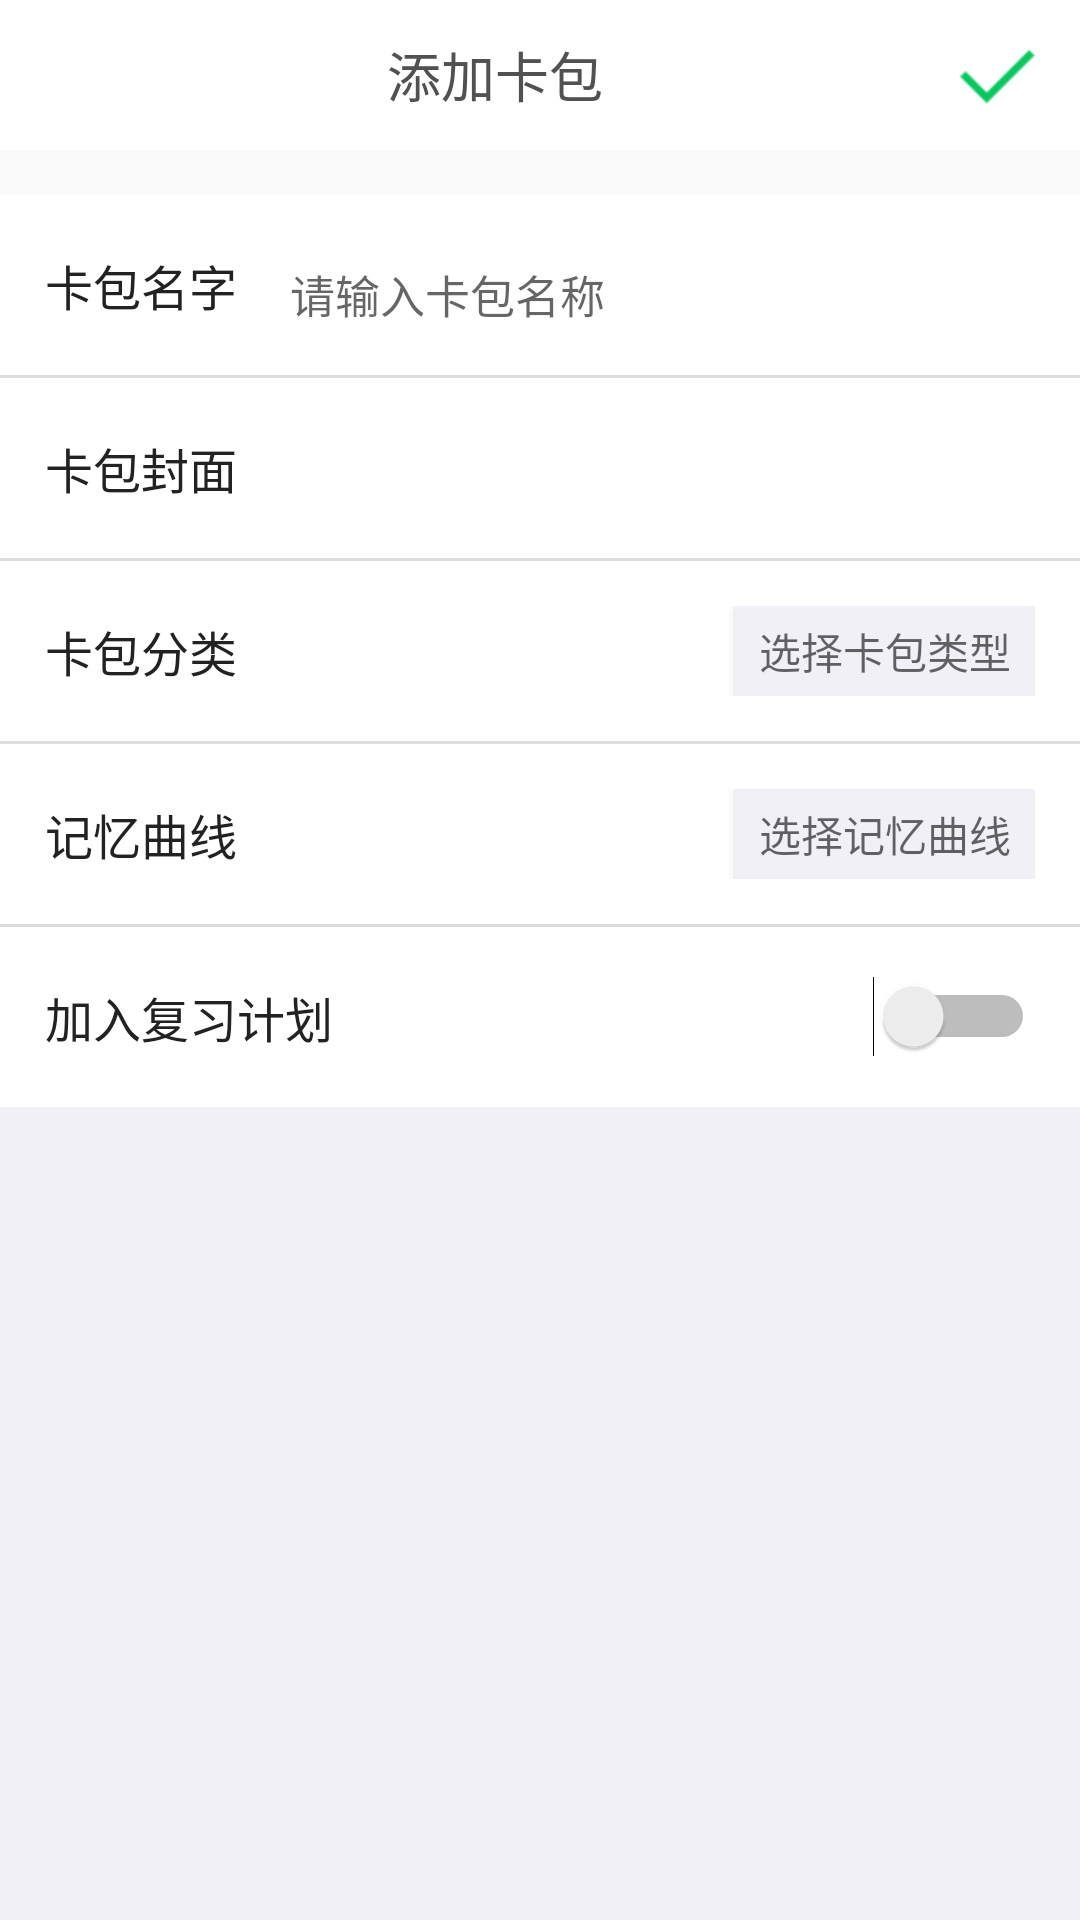

Point at icon controls on the screen. Image size 1080w x 1920h, points as point (x, y).
save right: point (997, 77)
